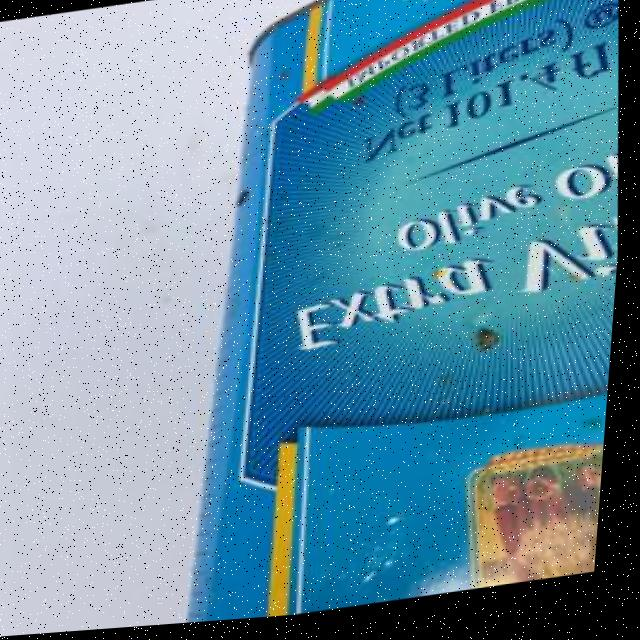metal: (142, 0, 640, 630)
